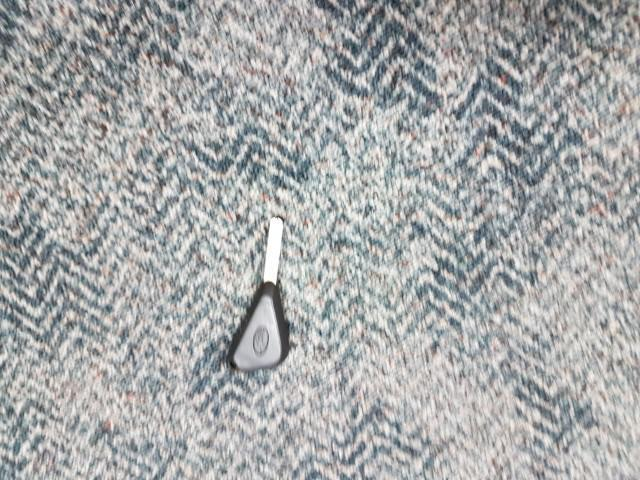key: (227, 217, 291, 371)
